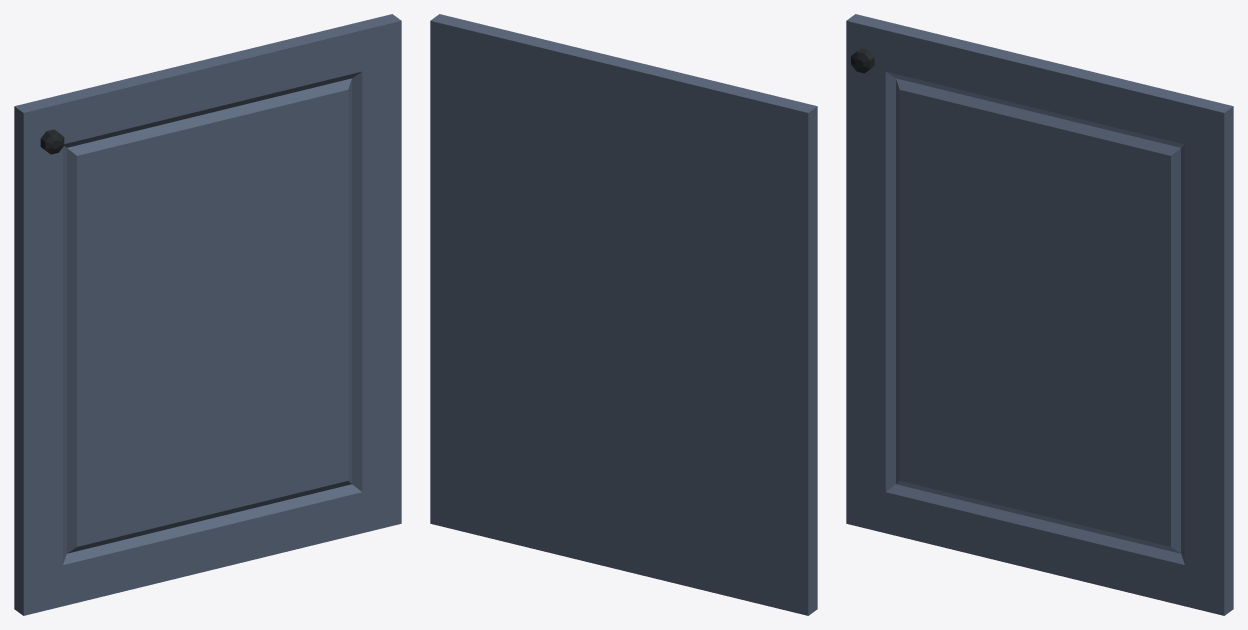
The model's file is Door3_C4_01.fbx.
The picture shows the model from 3 angles, left to right: view 1: azimuth 30°, elevation 25°; view 2: azimuth 150°, elevation 25°; view 3: azimuth 330°, elevation 25°; orthographic projection.
Parts seen in each view (by area): view 1: Door3_C4_01; view 2: Door3_C4_01; view 3: Door3_C4_01.
Part boxes in pixels (bbox=[...]): Door3_C4_01: bbox=[14, 14, 401, 615]; Door3_C4_01: bbox=[430, 14, 817, 615]; Door3_C4_01: bbox=[846, 14, 1233, 615].
Bounding box in the file's own units: 59 × 75 × 5.19.
